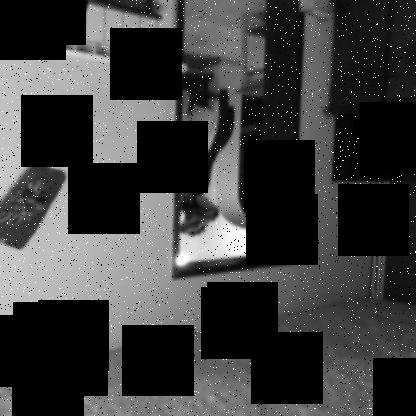Porte: (169, 1, 306, 283)
